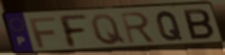B: (182, 8, 217, 42)
F: (56, 14, 91, 50), (27, 16, 58, 49)
Q: (89, 13, 128, 46), (155, 10, 185, 43)
R: (119, 11, 158, 46)
